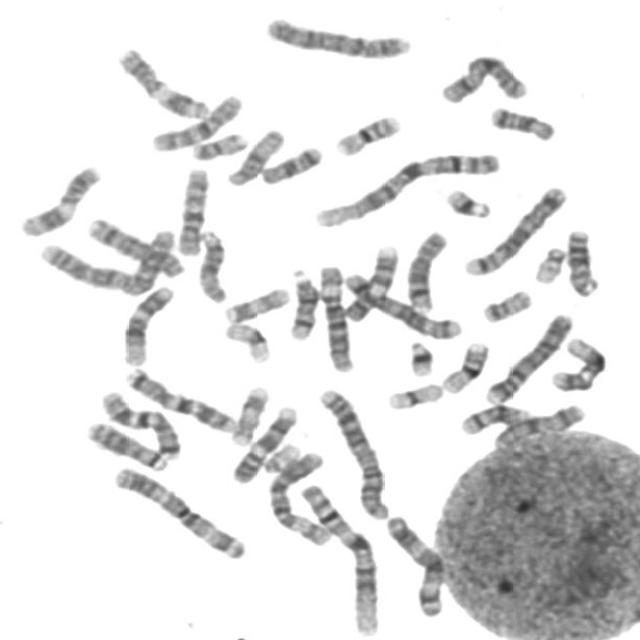A1: (308, 145, 503, 230), (292, 478, 382, 638)
A2: (32, 220, 181, 295), (312, 382, 392, 521)
A3: (104, 459, 249, 562), (379, 508, 448, 619)
B4: (478, 306, 576, 407), (259, 9, 415, 61)
B5: (458, 179, 570, 277), (337, 266, 463, 341)
C10: (144, 88, 246, 153), (169, 161, 212, 257)
C11: (110, 41, 214, 121), (13, 158, 103, 238)
C12: (115, 279, 176, 367), (544, 330, 609, 393)
C6: (260, 442, 335, 547), (312, 258, 356, 374)
C7: (119, 361, 239, 434), (94, 384, 183, 460)
C8: (81, 211, 186, 279), (400, 223, 450, 314)
C9: (226, 399, 300, 484), (337, 237, 402, 322)
D13: (80, 415, 170, 472), (560, 222, 602, 298)
D14: (454, 396, 533, 436), (282, 262, 321, 342)
D15: (221, 122, 286, 188), (190, 223, 230, 304)
E16: (328, 108, 404, 158), (435, 335, 491, 395)
E17: (216, 281, 292, 325), (224, 379, 272, 447)
E18: (253, 139, 326, 186), (484, 100, 558, 142)
F19: (218, 316, 272, 364), (380, 376, 445, 412)
F20: (475, 282, 535, 324), (185, 125, 250, 161)
G21: (438, 181, 494, 220), (402, 334, 436, 378)
G22: (528, 240, 569, 285), (256, 437, 303, 473)
X: (433, 47, 531, 106), (487, 398, 587, 448)
